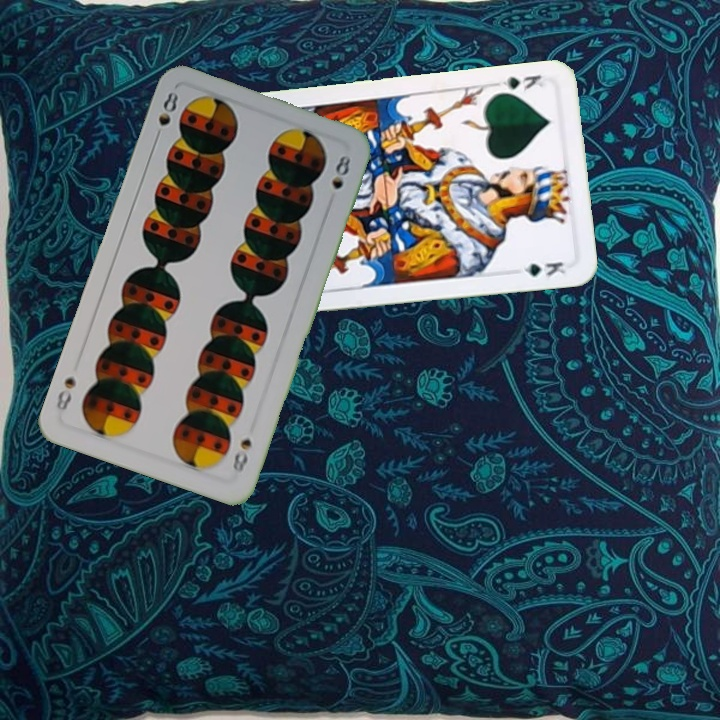GK: (499, 71, 549, 97)
S8: (150, 88, 181, 145), (228, 434, 255, 480)
